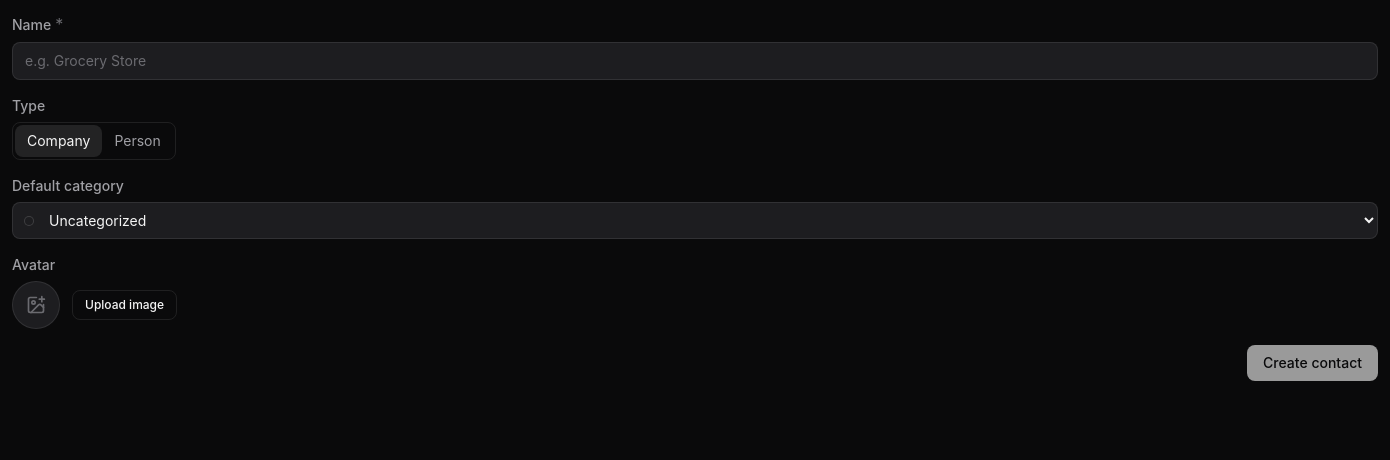
Test: ContactForm › surfaces a clear message when the avatar is rejected (AVATAR_INVALID)
Type "Fuel Brand" into the field labelled "Name".
click(695, 61); type("Fuel Brand")  # box [12, 42, 1378, 80]
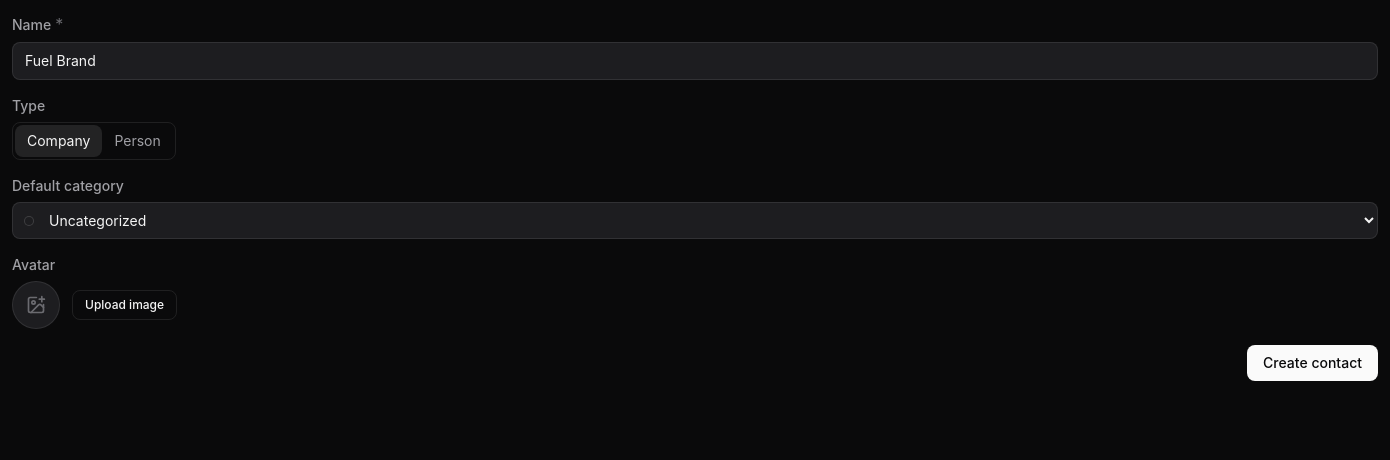
Click the button "Create contact".
click(1313, 363)  # box [1247, 345, 1378, 381]
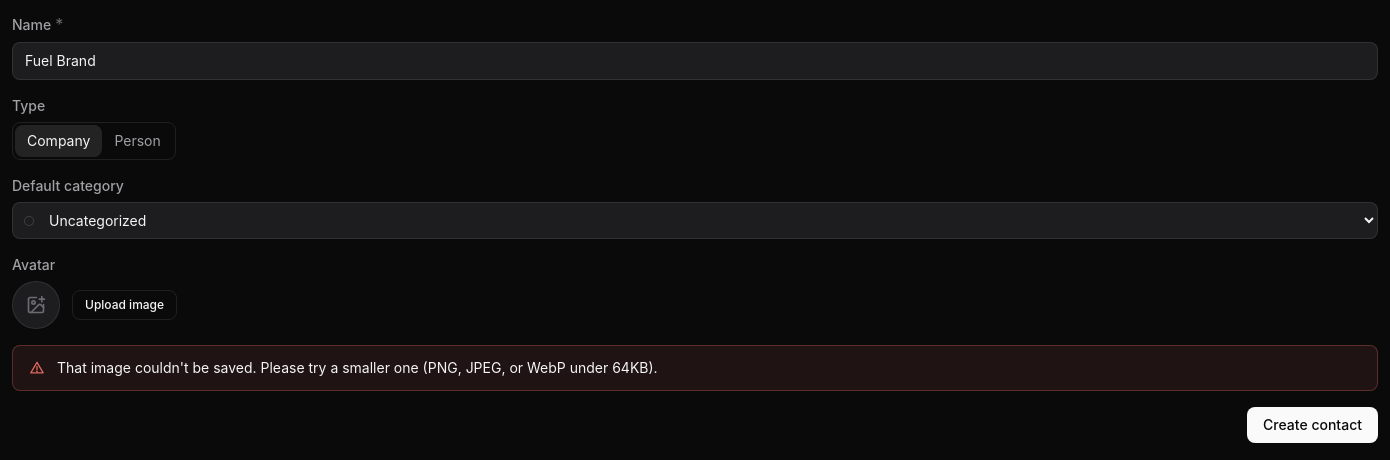
Expected: the text "image couldn't be saved" is shown, [57, 359, 658, 376]
